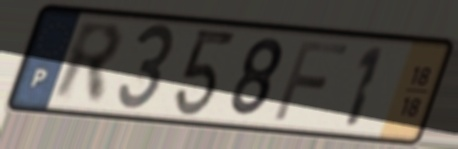1: (346, 45, 386, 131)
3: (114, 20, 179, 117)
5: (173, 25, 240, 119)
8: (227, 35, 285, 119)
F: (270, 37, 353, 124)
R: (49, 17, 127, 108)
